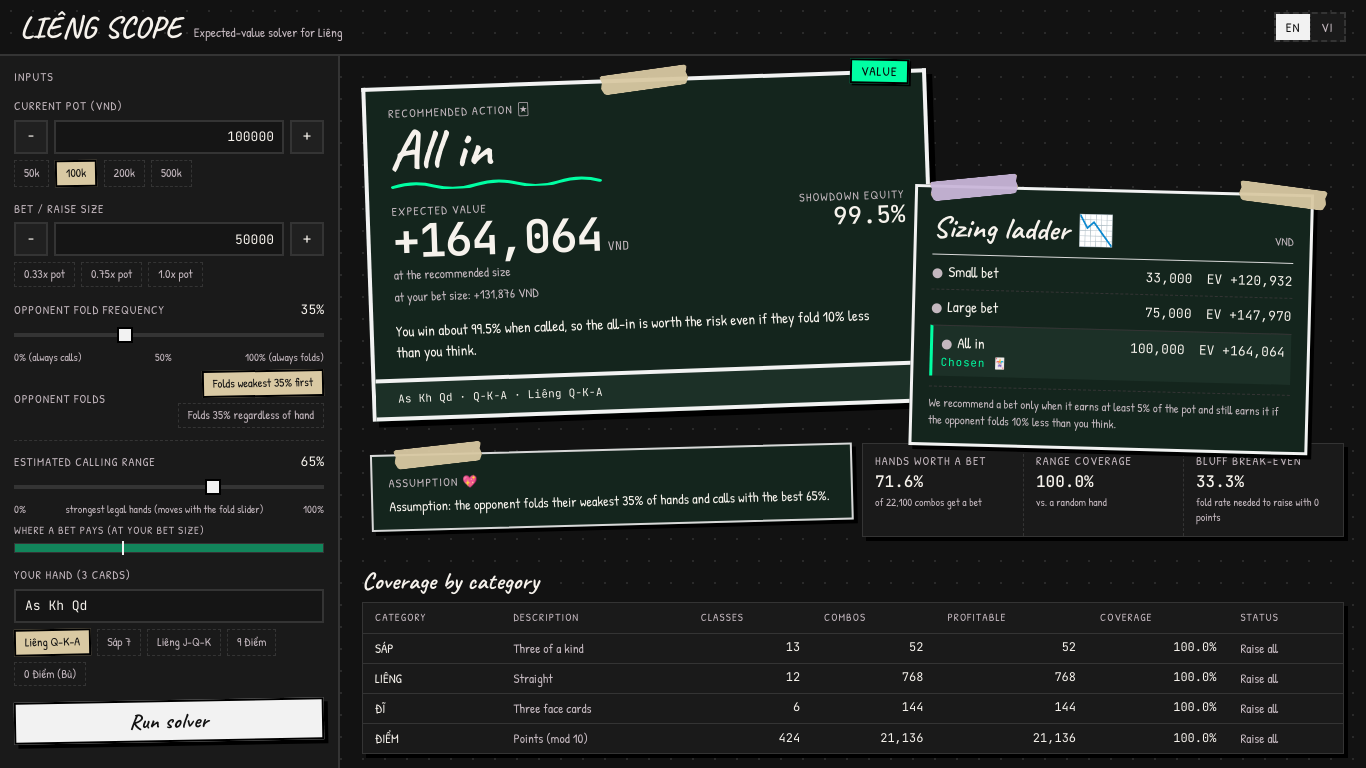
App › an invalid hand shows its message and clears the old verdict
Check: the heading "All in" is shown, box [388, 112, 493, 186]
Click the button "Run solver".
click(169, 721)  # box [14, 698, 324, 745]
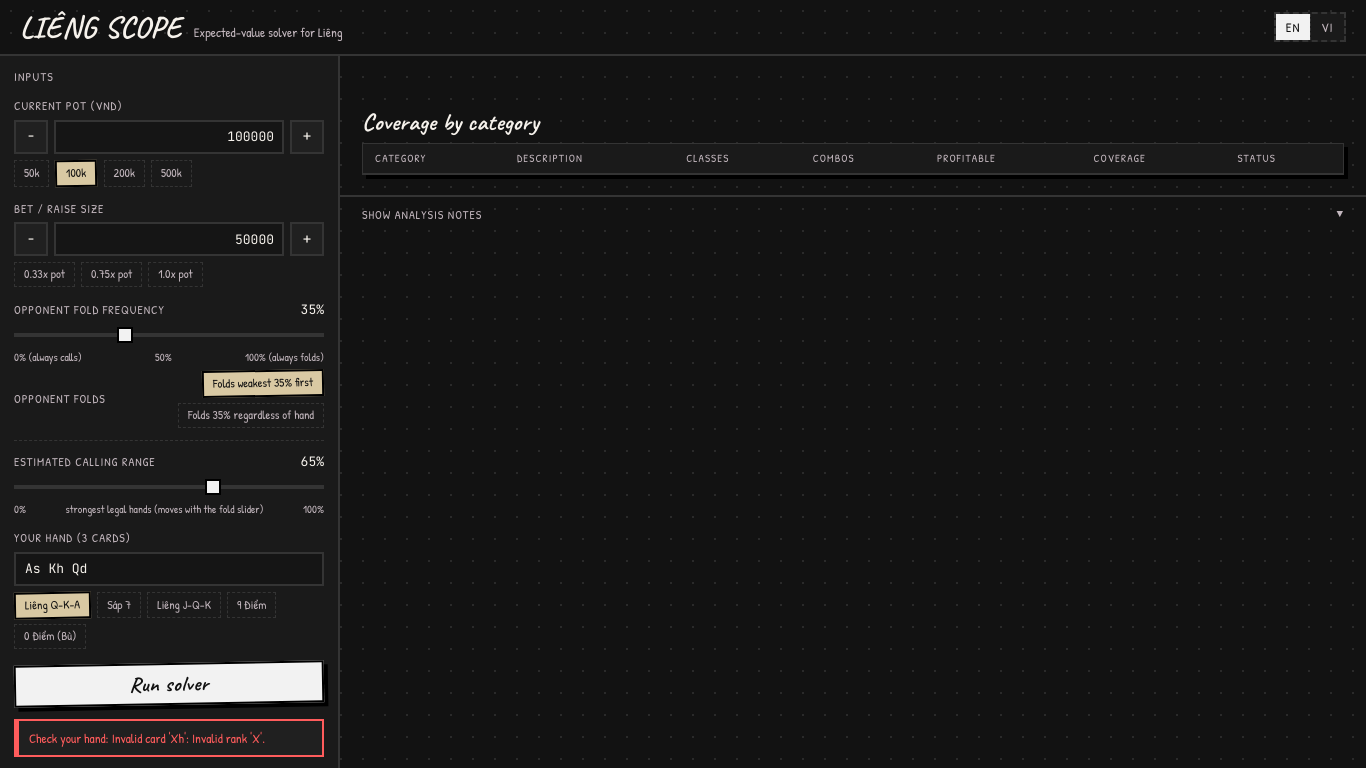
Check: the message reads "Check your hand: Invalid card 'Xh': Invalid rank 'X'.", box [29, 729, 265, 747]
Check: the heading "All in" is gone
